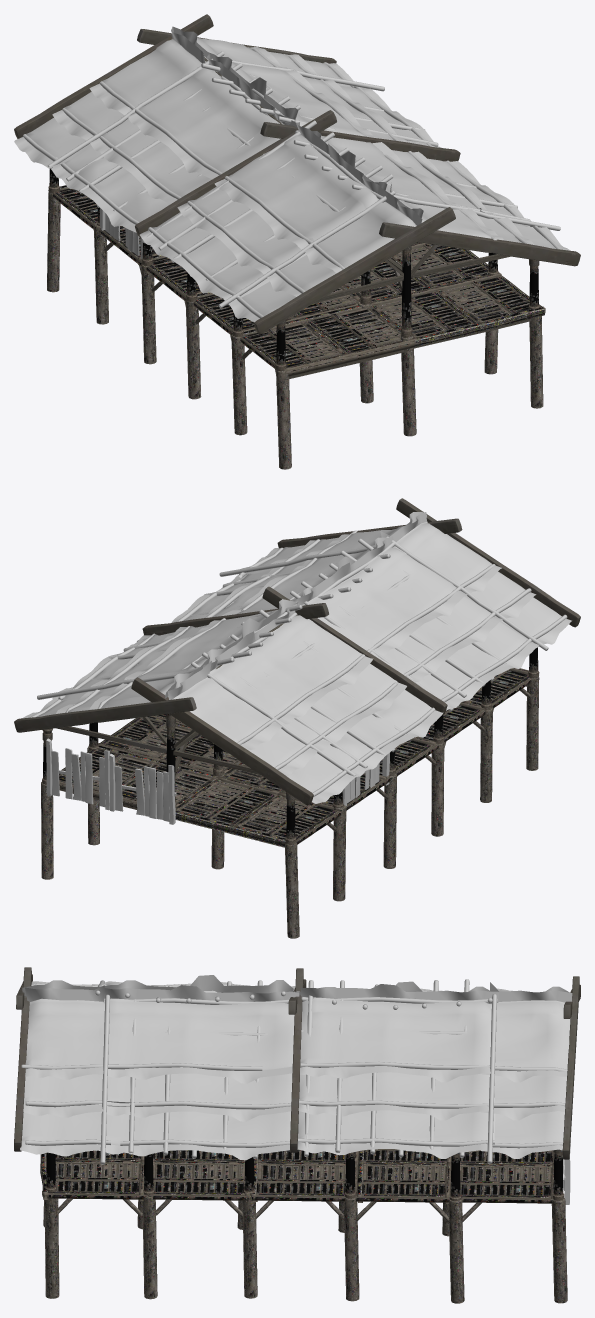
The model's file is build_big_storage_01_low.glb.
3 renders of one model, top to bottom at view 1: azimuth 30°, elevation 25°; view 2: azimuth 150°, elevation 25°; view 3: azimuth 270°, elevation 25°, orthographic. The views are drawn at different scales.
Parts seen in each view (by area): view 1: build_big_storage_01; view 2: build_big_storage_01; view 3: build_big_storage_01.
Boxes of the visible parts, x1=… form: build_big_storage_01: x1=14, y1=14, x2=580, y2=469; build_big_storage_01: x1=14, y1=498, x2=580, y2=938; build_big_storage_01: x1=14, y1=967, x2=580, y2=1303.
Bounding box in the file's own units: 18.49 × 12.13 × 24.64.
Materials: 4 (2 with a texture image).
